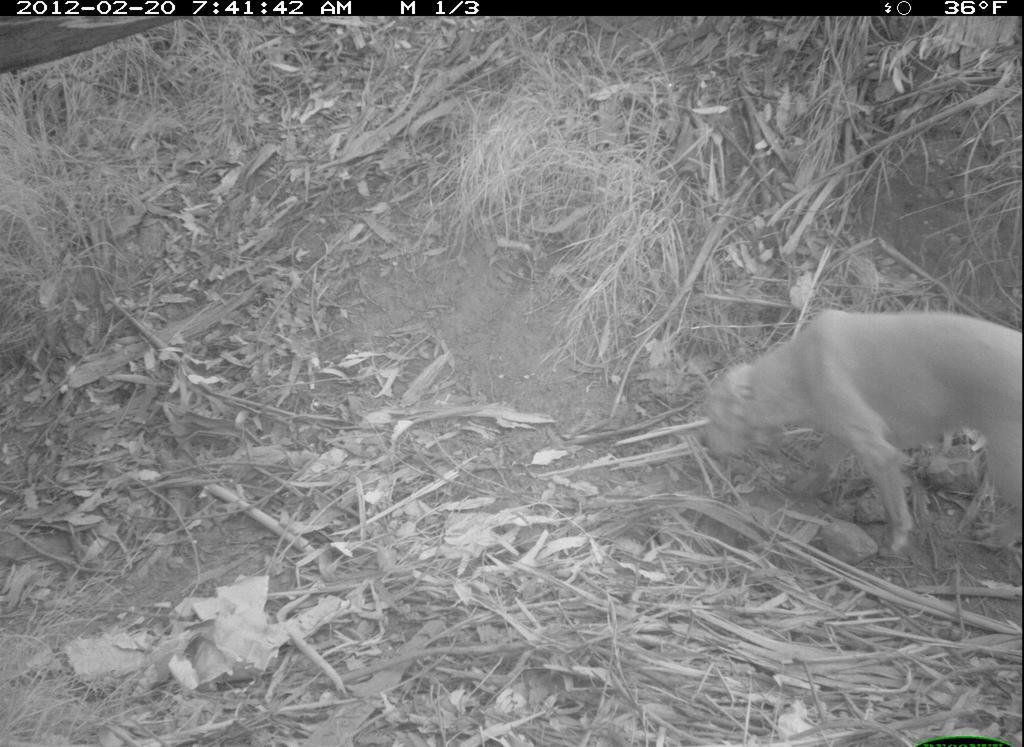dog: (697, 304, 1023, 565)
